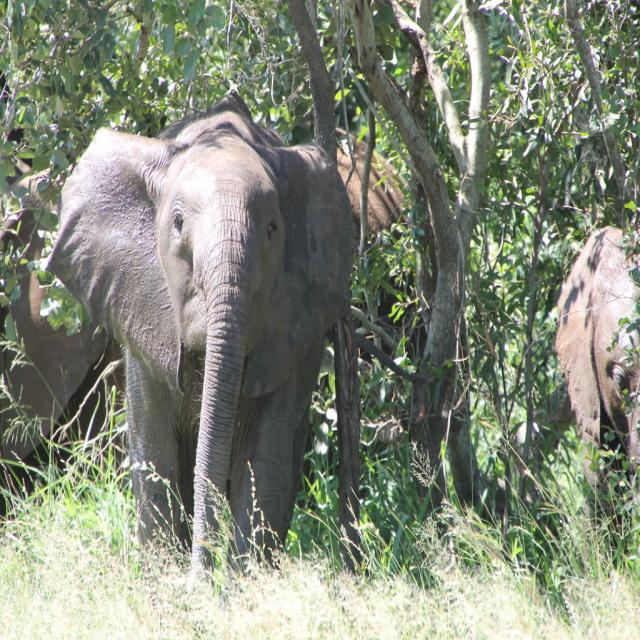Elephant: (33, 91, 357, 583), (554, 223, 639, 556)
